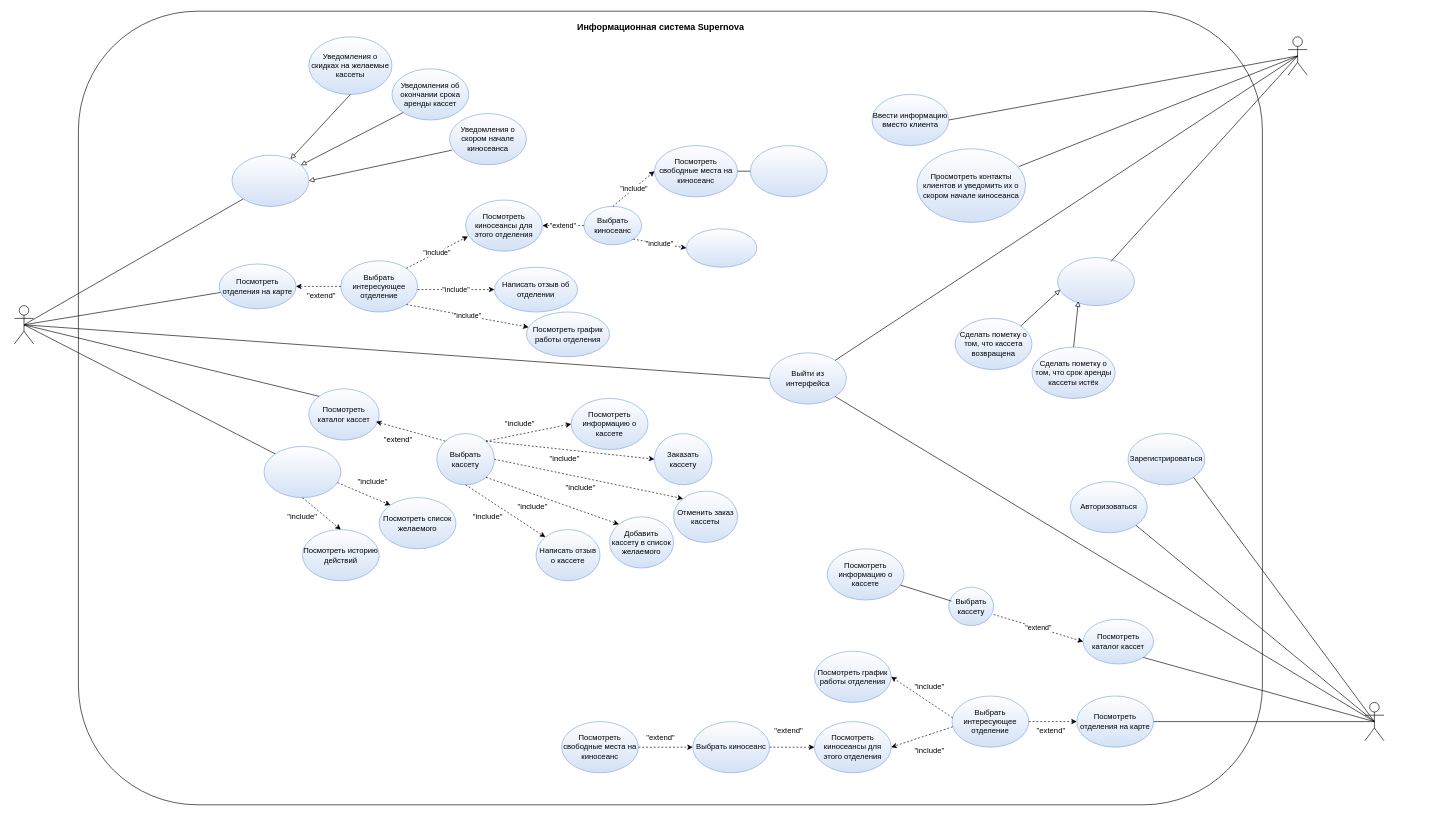
The diagram is 1444 pixels wide and 816 high, and some of its shapes have lost their labels. The centre of each missing label's shape, as x and y in pixels:
"Забронировать свободное место" belongs at [788,171].
"Клиент" belongs at [24,324].
"Неавторизованный пользователь" belongs at [1374,721].
"Оператор" belongs at [1297,55].
"Открыть журнал аренды кассет" belongs at [1095,281].
"Отменить бронь места" belongs at [721,247].
"Посмотреть свой профиль" belongs at [302,472].
"Посмотреть уведомления" belongs at [270,180].
